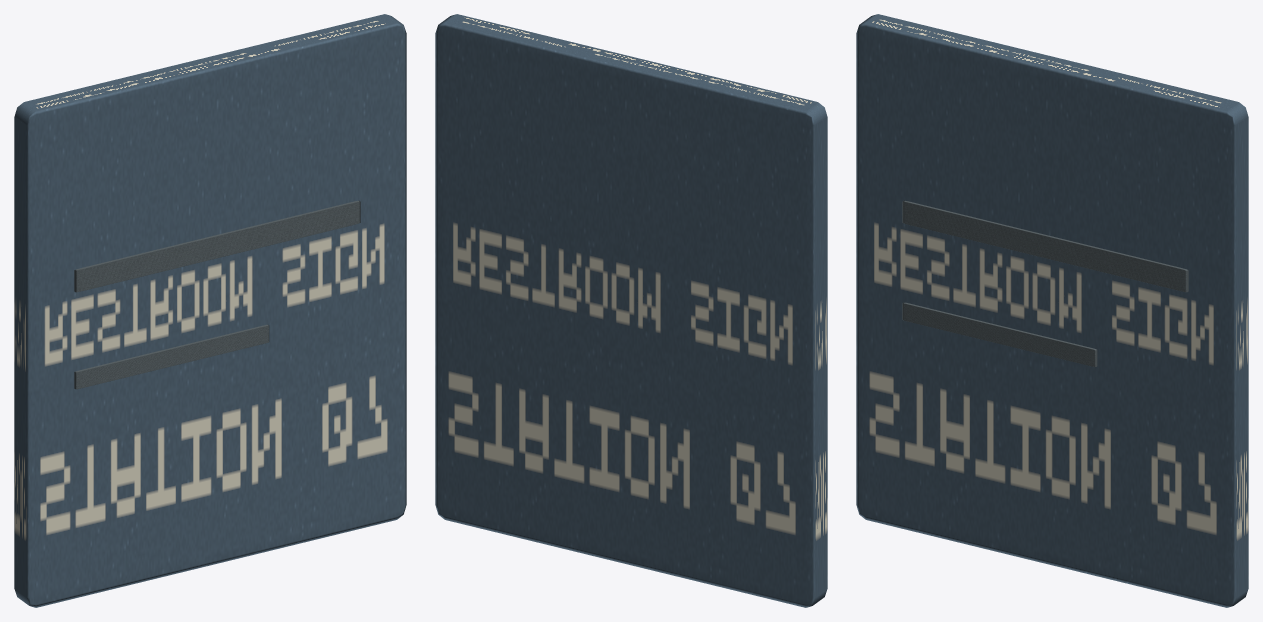
File: restroom-sign.glb
The picture shows the model from 3 angles, left to right: view 1: azimuth 30°, elevation 25°; view 2: azimuth 150°, elevation 25°; view 3: azimuth 330°, elevation 25°; orthographic projection.
Visible parts, largest first — view 1: board, stripe, line; view 2: board; view 3: board, stripe, line.
Boxes of the visible parts, x1,y1,x2,y2 form: board: (14,14,406,607); stripe: (74,200,360,292); line: (74,324,269,389); board: (435,14,827,607); board: (856,14,1248,607); stripe: (902,200,1188,292); line: (902,302,1097,366).
Bounding box in the file's own units: 0.16 × 0.2 × 0.0102.
2 materials, 2 textured.
